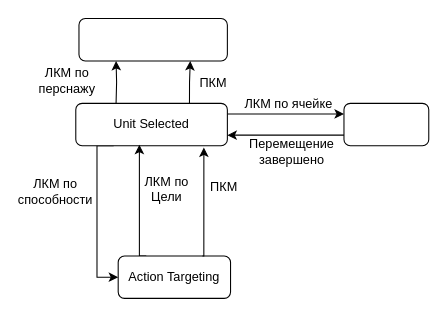
This 447x317 diagram has some shape labels left out. The centre of each missing label's shape, as x and y in pixels:
"Busy" belongs at point (386, 124).
"None" belongs at point (152, 39).
